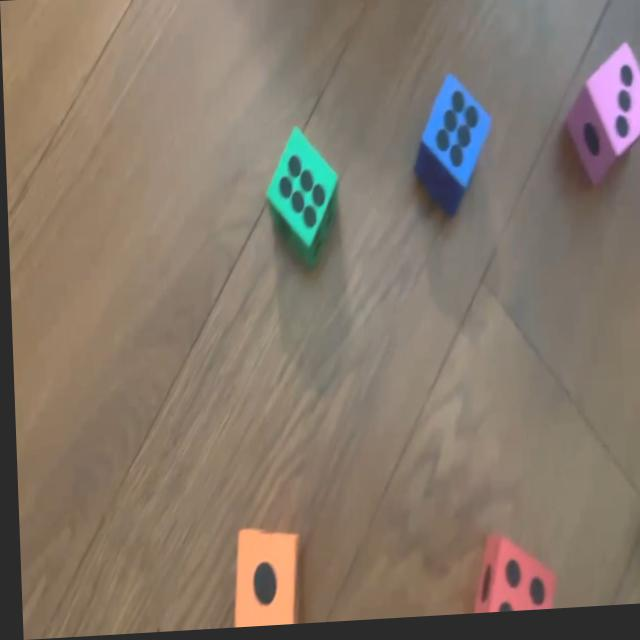cube: (411, 77, 492, 220), (263, 124, 339, 273), (466, 535, 551, 619)
